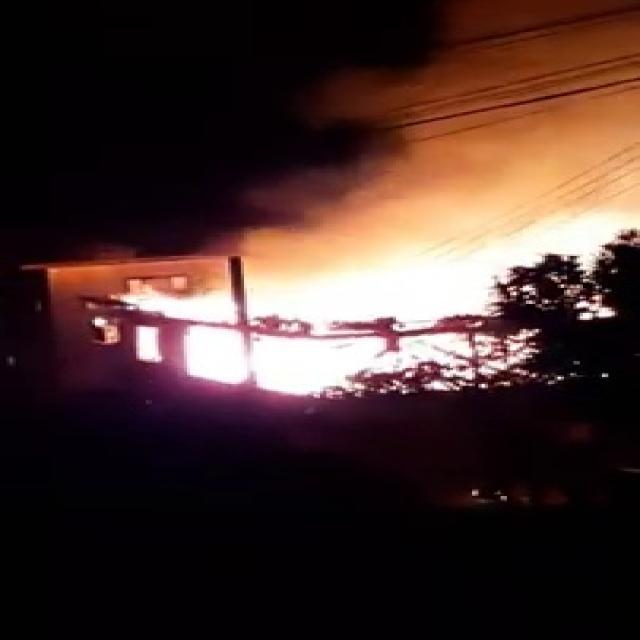Fire: (77, 268, 520, 396)
Smoke: (288, 17, 634, 237)
